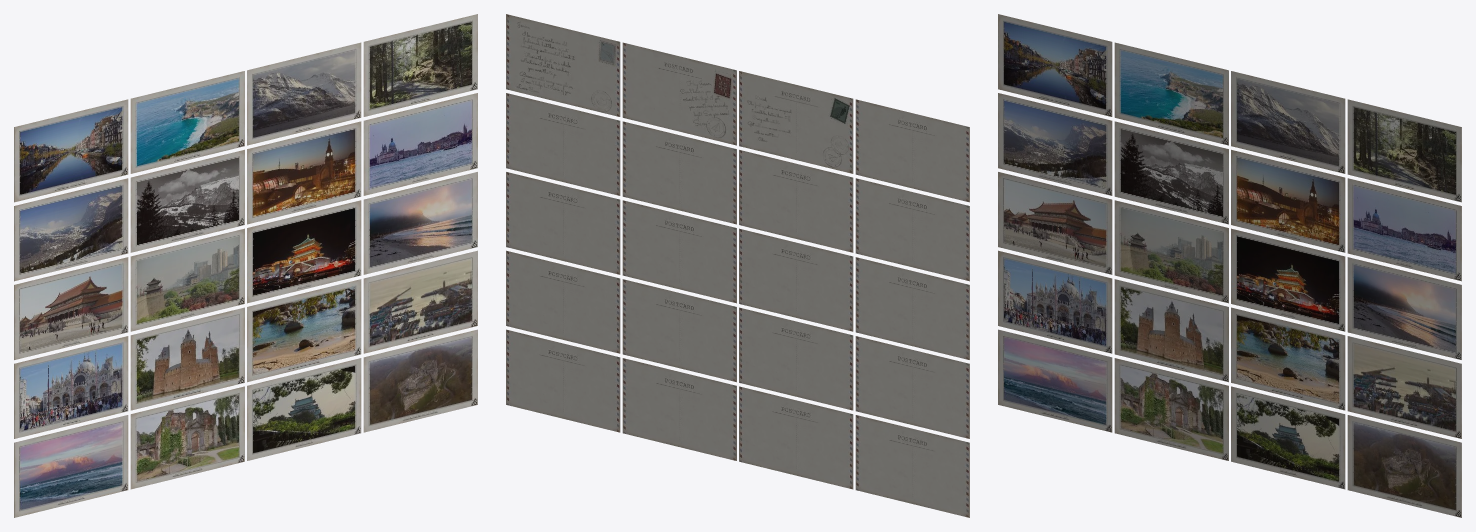
The model's file is postcards.glb.
3 views of the same model, side by side, from view 1: azimuth 30°, elevation 25°; view 2: azimuth 150°, elevation 25°; view 3: azimuth 330°, elevation 25° (orthographic).
Visible parts, largest first — view 1: postcards_0, postcards_2, postcards_4, postcards_6, postcards_13, postcards_15, postcards_17, postcards_19, postcards_9, postcards_10, postcards_1, postcards_7 (+8 smaller); view 2: postcards_0, postcards_2, postcards_4, postcards_6, postcards_13, postcards_15, postcards_17, postcards_19, postcards_9, postcards_10, postcards_1, postcards_7 (+8 smaller); view 3: postcards_1, postcards_3, postcards_5, postcards_7, postcards_12, postcards_14, postcards_16, postcards_18, postcards_9, postcards_10, postcards_2, postcards_4 (+8 smaller).
Boxes of the visible parts, x1,y1,x2,y2 form: postcards_0: [14, 99, 128, 202]; postcards_2: [247, 42, 361, 145]; postcards_4: [14, 178, 128, 281]; postcards_6: [247, 121, 361, 224]; postcards_13: [130, 307, 244, 410]; postcards_15: [363, 250, 477, 353]; postcards_17: [130, 386, 244, 489]; postcards_19: [363, 329, 477, 432]; postcards_9: [130, 228, 244, 331]; postcards_10: [247, 200, 361, 303]; postcards_1: [130, 71, 244, 173]; postcards_7: [363, 93, 477, 195]; postcards_0: [855, 99, 969, 202]; postcards_2: [622, 42, 736, 145]; postcards_4: [855, 178, 969, 281]; postcards_6: [622, 121, 736, 224]; postcards_13: [739, 307, 853, 410]; postcards_15: [506, 250, 620, 353]; postcards_17: [739, 386, 853, 489]; postcards_19: [506, 329, 620, 432]; postcards_9: [739, 228, 853, 331]; postcards_10: [622, 200, 736, 303]; postcards_1: [739, 71, 853, 173]; postcards_7: [506, 93, 620, 195]; postcards_1: [1114, 42, 1228, 145]; postcards_3: [1347, 99, 1461, 202]; postcards_5: [1114, 121, 1228, 224]; postcards_7: [1347, 178, 1461, 281]; postcards_12: [998, 250, 1112, 353]; postcards_14: [1231, 307, 1345, 410]; postcards_16: [998, 329, 1112, 432]; postcards_18: [1231, 386, 1345, 489]; postcards_9: [1114, 200, 1228, 303]; postcards_10: [1231, 228, 1345, 331]; postcards_2: [1231, 71, 1345, 173]; postcards_4: [998, 93, 1112, 195].
Bounding box in the file's own units: 0.6767 × 0.545 × 0.000142.
Materials: 1 (1 with a texture image).
